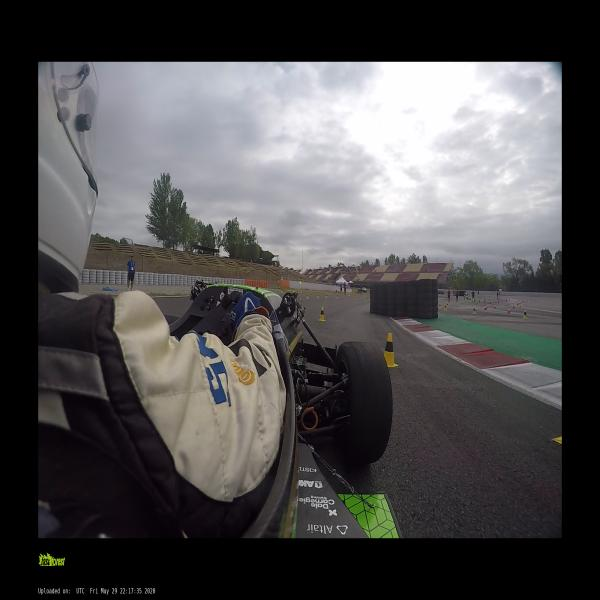orange_cone: (507, 307, 510, 313), (484, 305, 486, 311), (485, 304, 487, 310)
yellow_cone: (384, 333, 398, 367), (317, 306, 326, 321), (522, 310, 527, 318), (472, 308, 476, 314), (444, 305, 448, 310), (438, 303, 441, 309), (306, 293, 308, 299), (446, 302, 448, 308), (325, 293, 327, 298), (316, 294, 318, 298), (366, 296, 368, 300), (354, 296, 356, 299), (336, 295, 337, 297)
